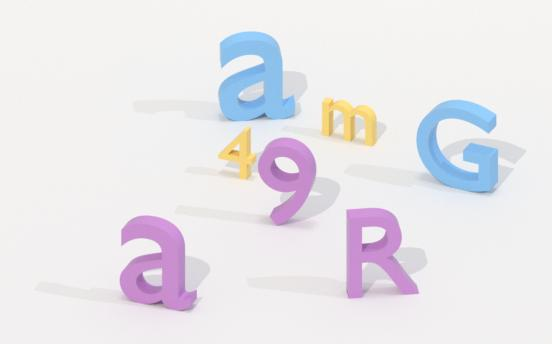4: (215, 125, 256, 182)
9: (258, 135, 320, 230)
G-hoa: (411, 90, 506, 199)
R-hoa: (339, 204, 423, 306)
a: (117, 212, 199, 315), (217, 29, 298, 124)
m: (318, 93, 381, 149)
